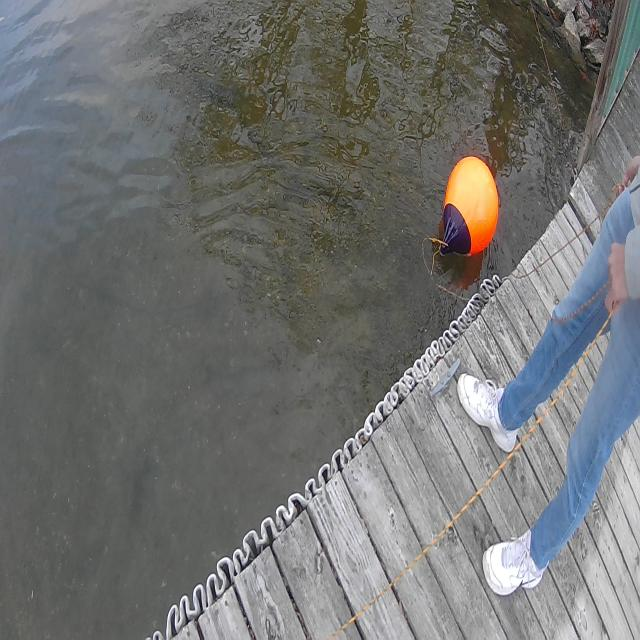Buoy: (437, 148, 503, 267)
